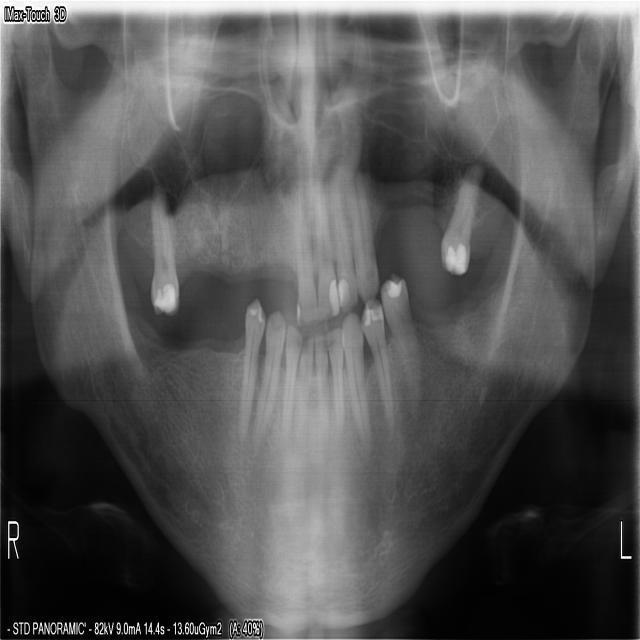LCD: (339, 309, 366, 425)
LCU: (346, 170, 379, 304)
LID: (326, 319, 345, 429), (312, 328, 331, 431)
LIU: (324, 172, 357, 312), (309, 185, 338, 320)
LMU: (437, 162, 484, 277)
LPMD: (377, 271, 428, 382), (357, 297, 403, 412)
RCD: (252, 301, 286, 435)
RID: (276, 321, 302, 427), (295, 330, 313, 429)
RIU: (292, 183, 317, 325)
RMU: (147, 197, 180, 319)
RPMD: (237, 296, 264, 407)
